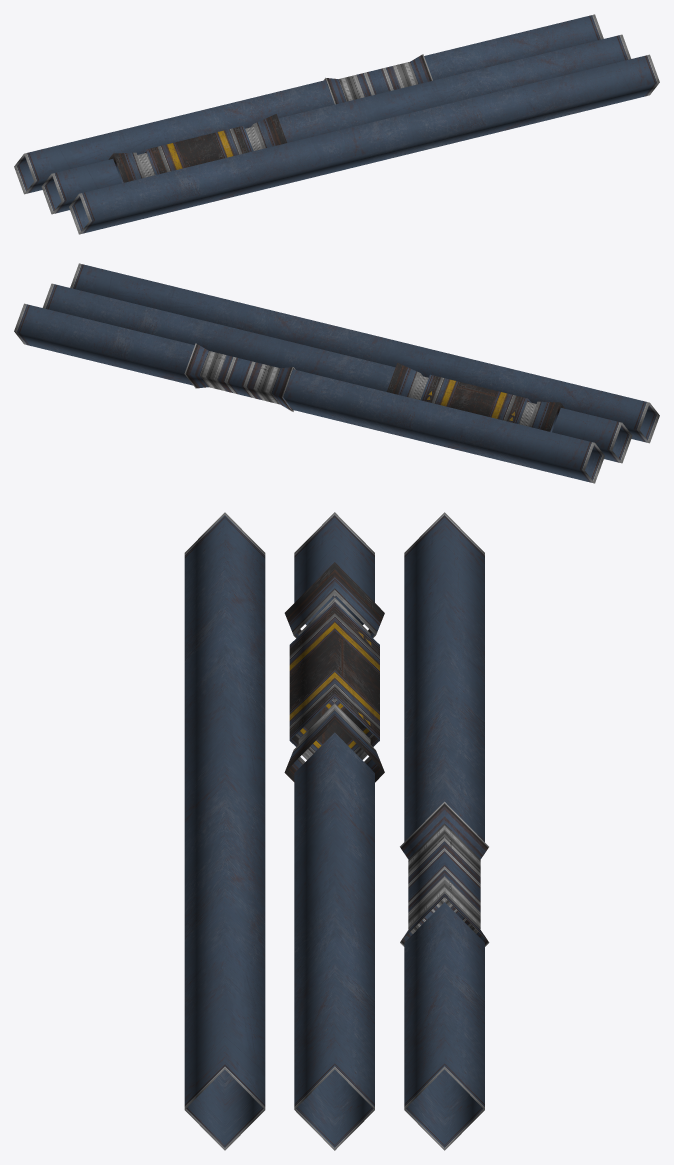
The model's file is Pipe3_B_L2.fbx.
3 renders of one model, top to bottom at view 1: azimuth 30°, elevation 25°; view 2: azimuth 150°, elevation 25°; view 3: azimuth 270°, elevation 25°, orthographic. The views are drawn at different scales.
Visible parts, largest first — view 1: PIpe3_B_L2; view 2: PIpe3_B_L2; view 3: PIpe3_B_L2.
Part boxes in pixels (x1,y1,x2,y2): PIpe3_B_L2: (14,14,659,234); PIpe3_B_L2: (14,263,659,483); PIpe3_B_L2: (184,512,489,1150).
Size of the model in its own units: 200 by 17.11 by 46.23.
